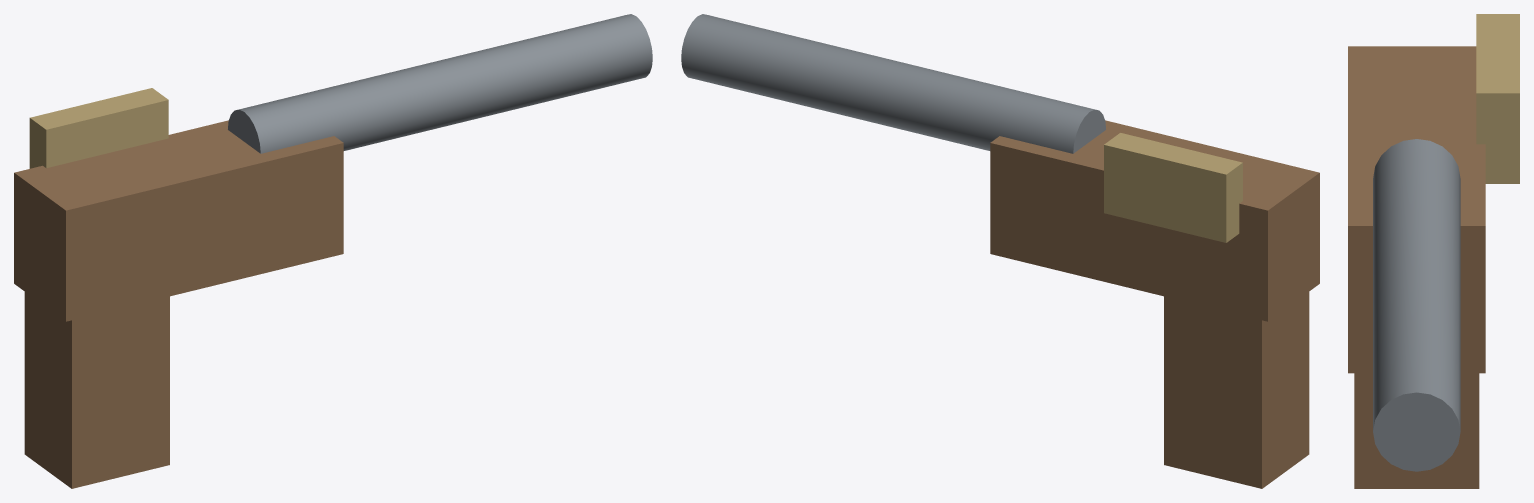
Rendered from flintlock_pistol.glb.
3 renders of one model, left to right at view 1: azimuth 30°, elevation 25°; view 2: azimuth 150°, elevation 25°; view 3: azimuth 270°, elevation 25°, orthographic. The views are drawn at different scales.
Parts seen in each view (by area): view 1: world; view 2: world; view 3: world.
Boxes of the visible parts, x1=… form: world: x1=14, y1=14, x2=652, y2=488; world: x1=681, y1=14, x2=1319, y2=488; world: x1=1348, y1=14, x2=1519, y2=488.
Bounding box in the file's own units: 0.73 × 0.375 × 0.1375.
